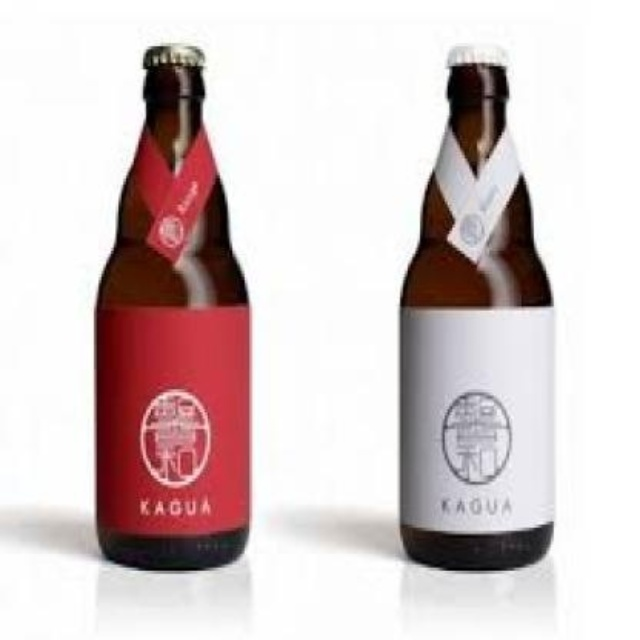trash: (95, 45, 249, 568), (400, 46, 552, 568)
